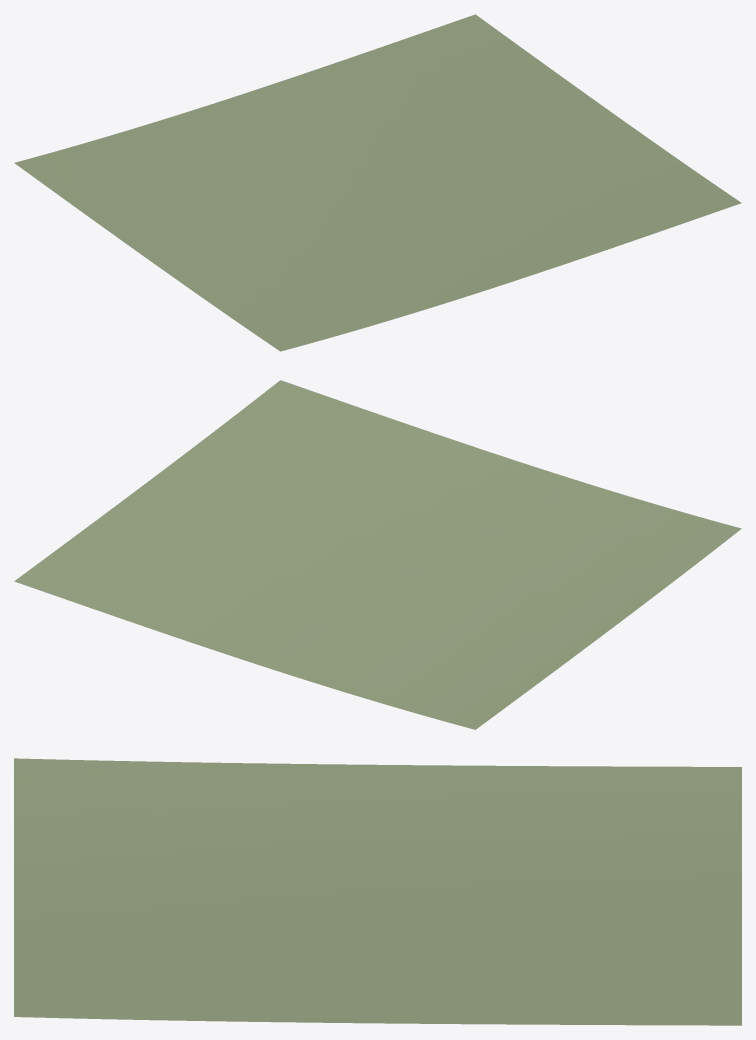
Rendered from valley-9-11.glb.
3 views of the same model, one above another, from view 1: azimuth 30°, elevation 25°; view 2: azimuth 150°, elevation 25°; view 3: azimuth 270°, elevation 25° (orthographic). The views are drawn at different scales.
Visible parts, largest first — view 1: valley-9-11; view 2: valley-9-11; view 3: valley-9-11.
Part boxes in pixels (x1,y1,x2,y2): valley-9-11: (14,14,741,351); valley-9-11: (14,380,741,729); valley-9-11: (14,758,741,1025).
Size of the model in its own units: 256 by 22.38 by 256.
